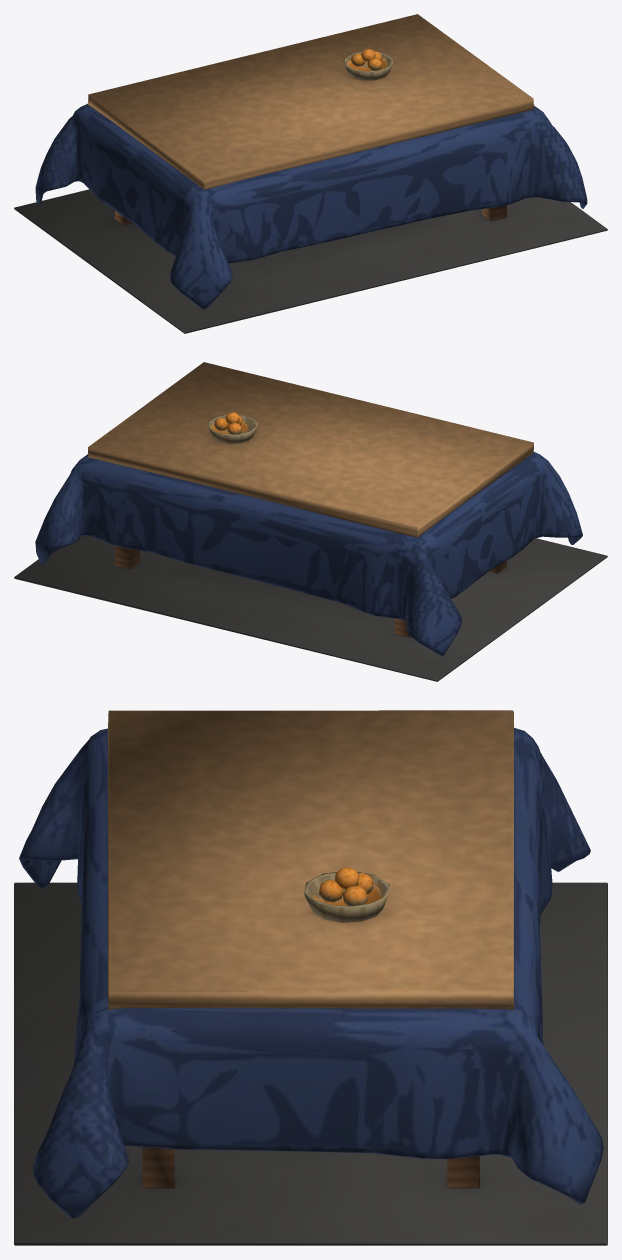
The model's file is kotatsu_lodge_indigo.glb.
3 renders of one model, top to bottom at view 1: azimuth 30°, elevation 25°; view 2: azimuth 150°, elevation 25°; view 3: azimuth 270°, elevation 25°, orthographic. The views are drawn at different scales.
Visible parts, largest first — view 1: prop_kotatsu_lodge_indigo_felt, prop_kotatsu_lodge_indigo_wood; view 2: prop_kotatsu_lodge_indigo_felt, prop_kotatsu_lodge_indigo_wood; view 3: prop_kotatsu_lodge_indigo_felt, prop_kotatsu_lodge_indigo_wood.
Boxes of the visible parts, x1,y1,x2,y2 form: prop_kotatsu_lodge_indigo_felt: (14,49,607,333); prop_kotatsu_lodge_indigo_wood: (88,14,533,225); prop_kotatsu_lodge_indigo_felt: (14,412,607,681); prop_kotatsu_lodge_indigo_wood: (88,362,533,637); prop_kotatsu_lodge_indigo_felt: (14,727,607,1245); prop_kotatsu_lodge_indigo_wood: (108,710,513,1188).
Size of the model in its own units: 3 by 0.9901 by 2.09.
Materials: 3 (3 with a texture image).
